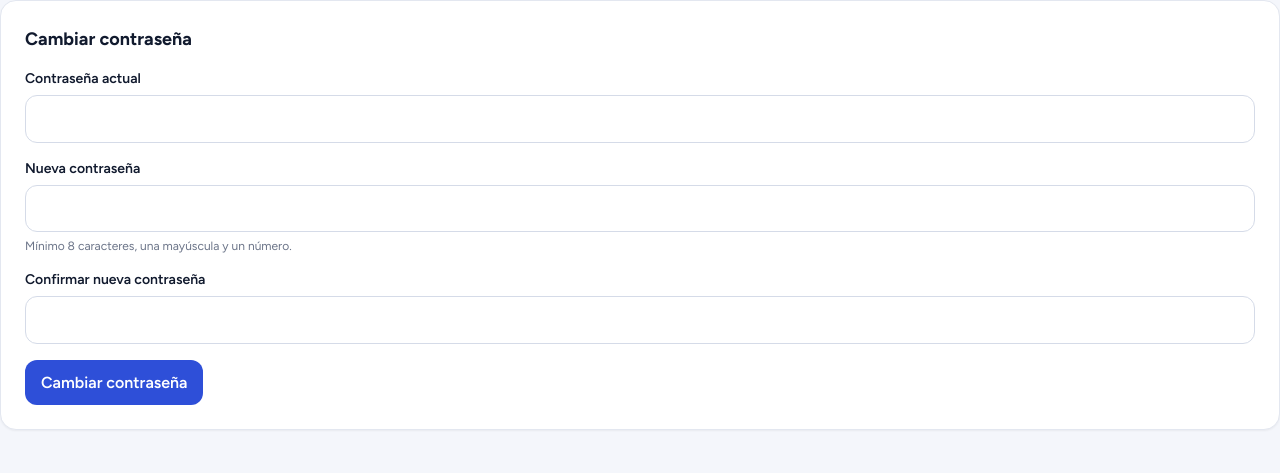
Scenario: FormCambioPassword › exige que la nueva sea distinta de la actual
Type "Actual123" into the password field labelled "Contraseña actual" at (640, 119), box [25, 95, 1255, 143]
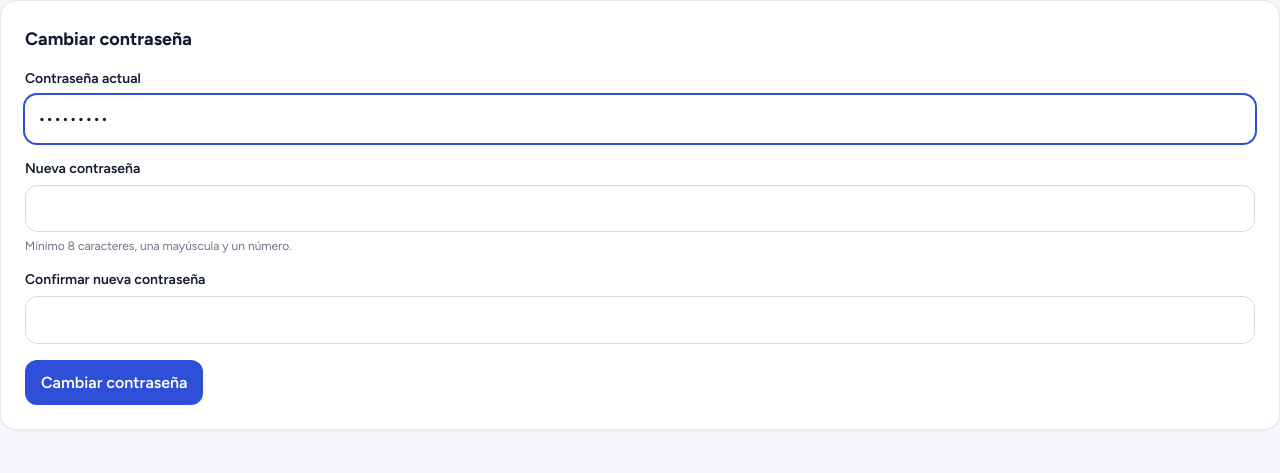
Type "Actual123" into the password field labelled "Nueva contraseña" at (640, 208), box [25, 185, 1255, 232]
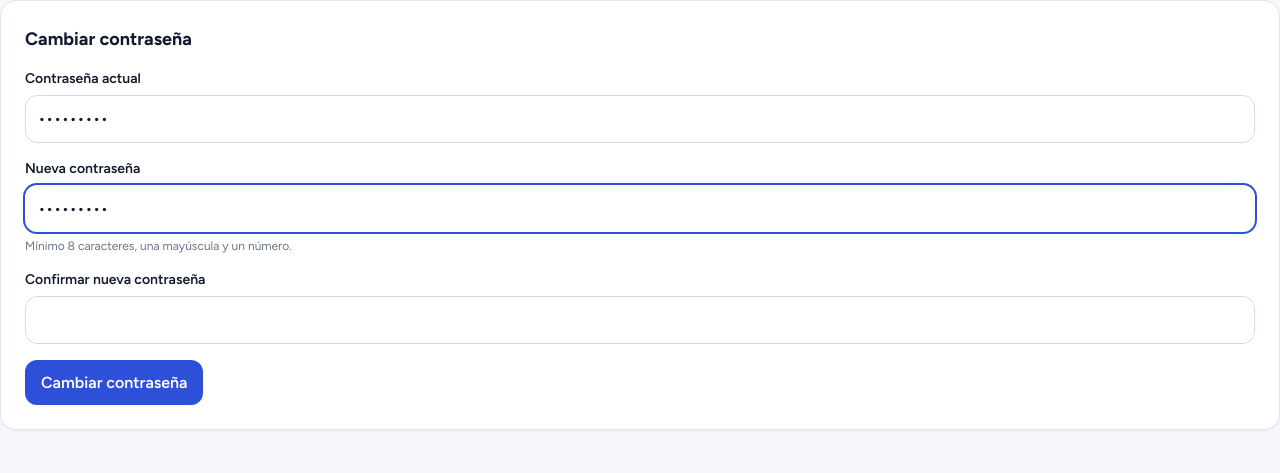
Type "Actual123" into the password field labelled "Confirmar nueva contraseña" at (640, 320), box [25, 296, 1255, 344]
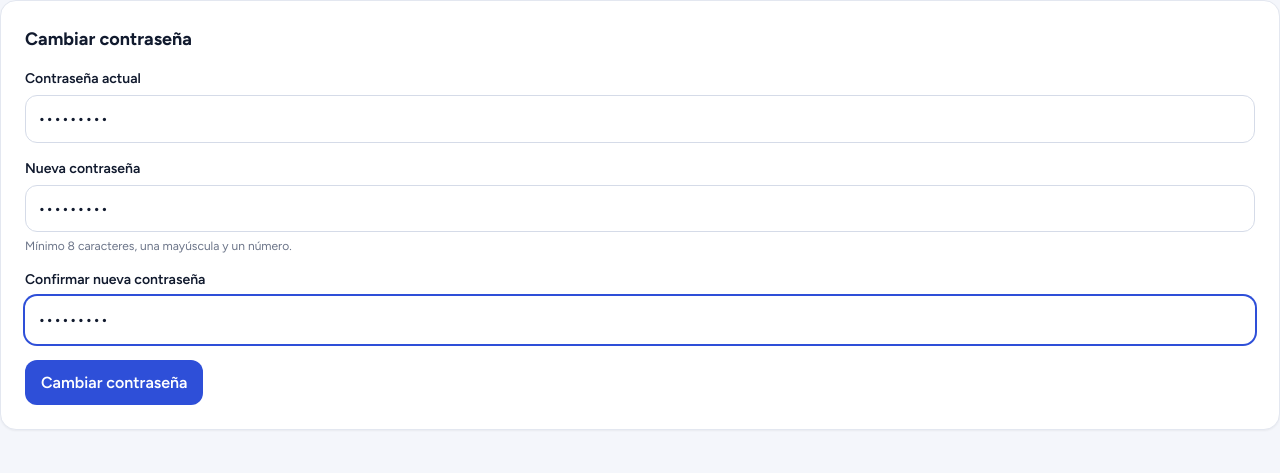
Click the button "Cambiar contraseña" at (114, 383), box [25, 360, 204, 405]
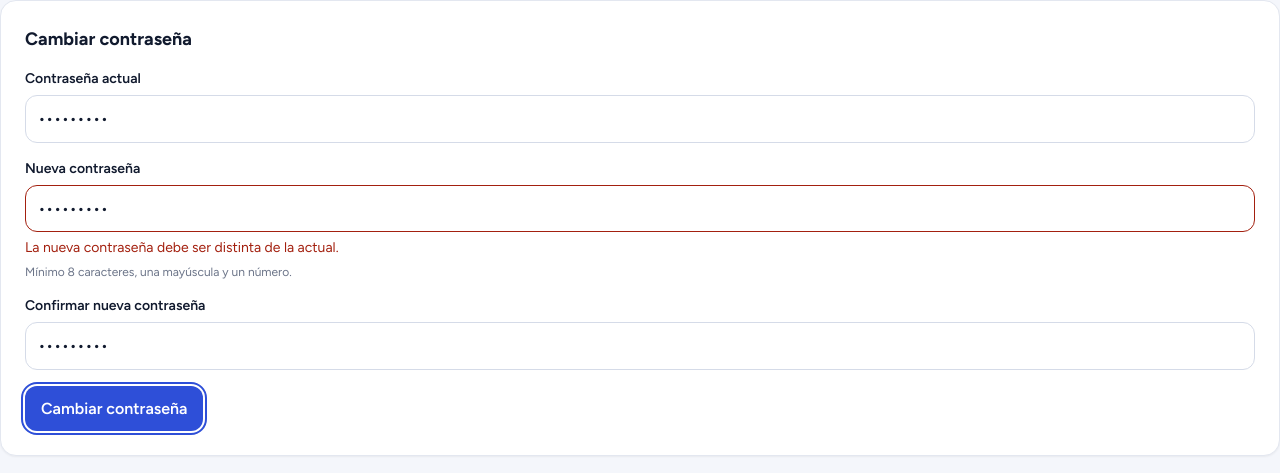
Now the text "La nueva contraseña debe ser distinta de la actual." is shown, box [25, 239, 339, 256]
